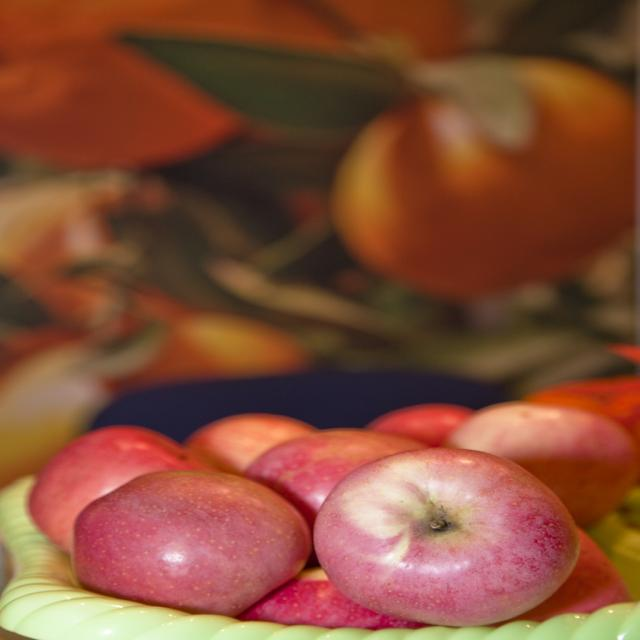Healty Apple: (23, 380, 639, 626)
